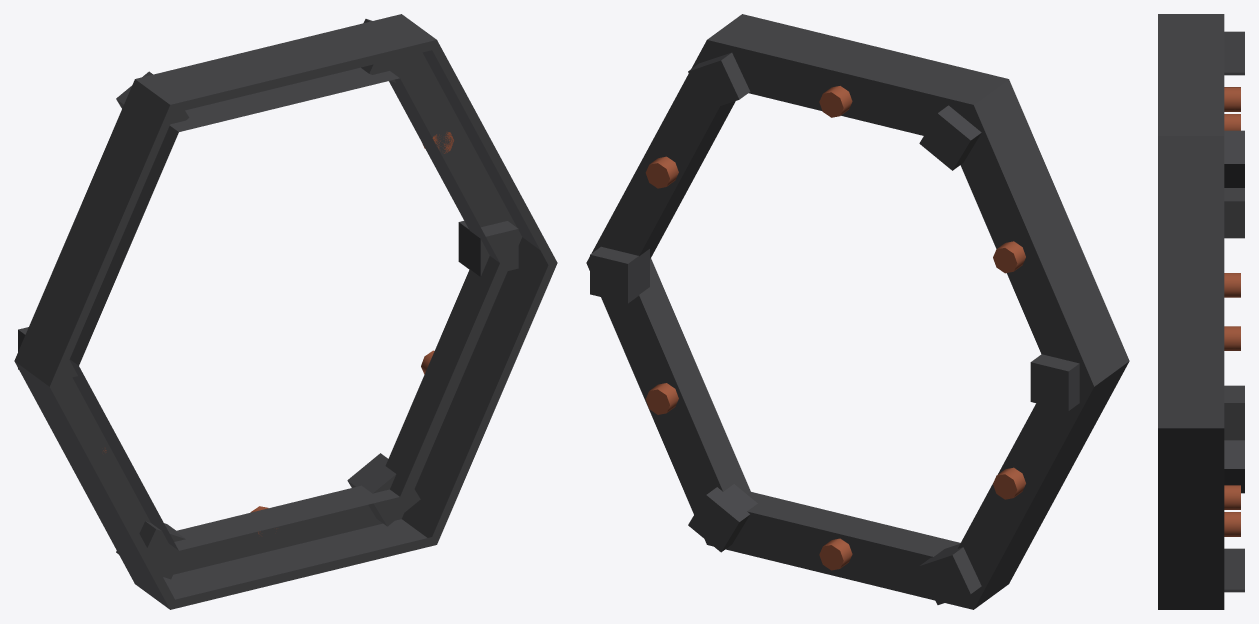
The model's file is pod4_pyro.obj.
3 renders of one model, left to right at view 1: azimuth 30°, elevation 25°; view 2: azimuth 150°, elevation 25°; view 3: azimuth 270°, elevation 25°, orthographic. The views are drawn at different scales.
Visible parts, largest first — view 1: pod4_pyro; view 2: pod4_pyro; view 3: pod4_pyro.
Boxes of the visible parts, x1,y1,x2,y2 form: pod4_pyro: (14, 14, 557, 609); pod4_pyro: (586, 14, 1129, 609); pod4_pyro: (1158, 14, 1244, 609).
Size of the model in its own units: 1.66 by 1.58 by 0.262.
